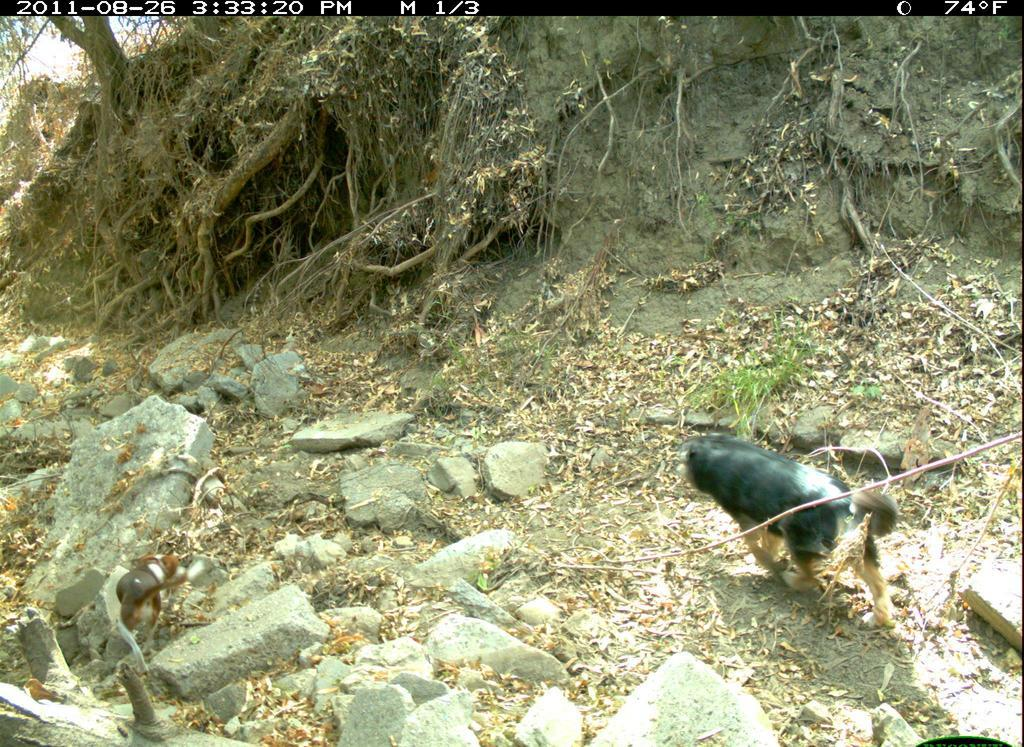dog: (674, 423, 926, 633)
